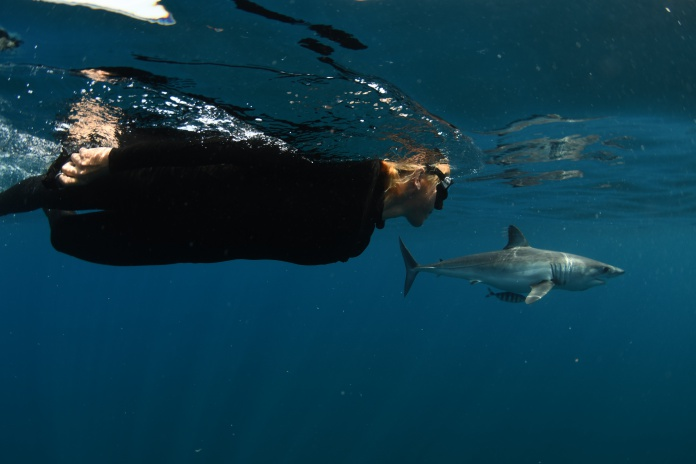Mako: (379, 218, 638, 317)
